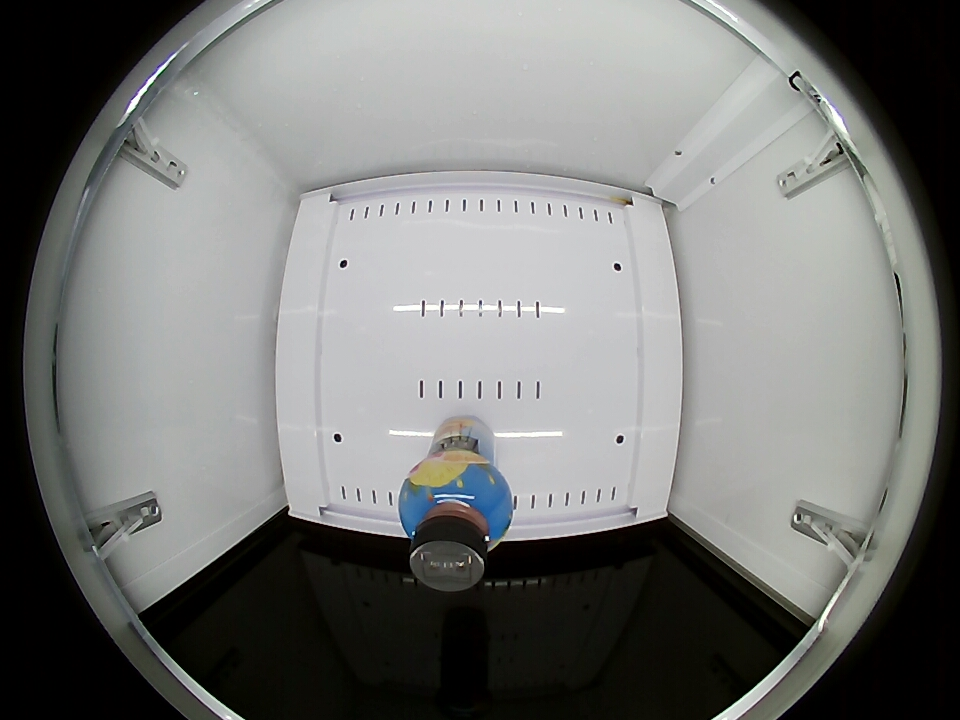guolicheng2: (400, 464, 515, 590)
